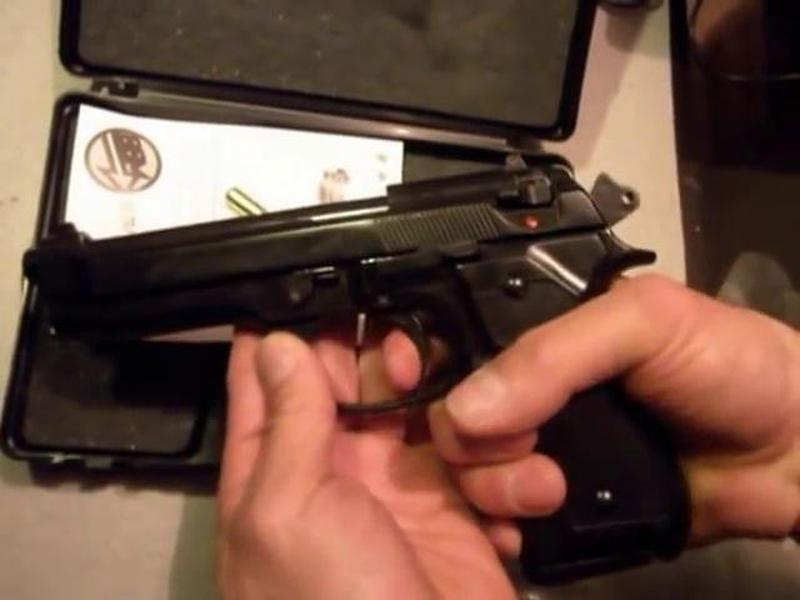Pistola: (31, 181, 718, 568)
